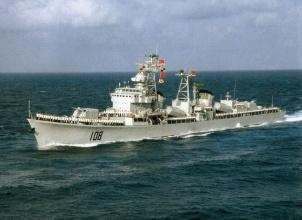warship: (20, 48, 288, 149)
